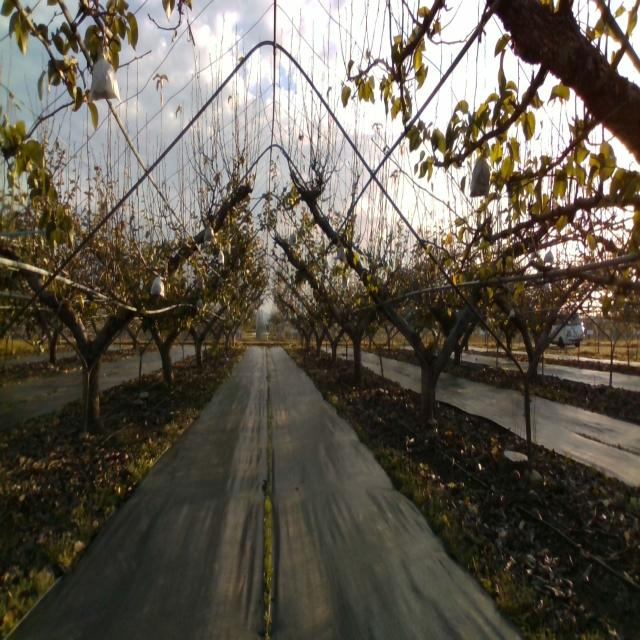pearbags: (88, 41, 118, 104), (470, 150, 490, 198), (150, 272, 165, 298), (334, 242, 348, 265), (203, 223, 215, 245)
